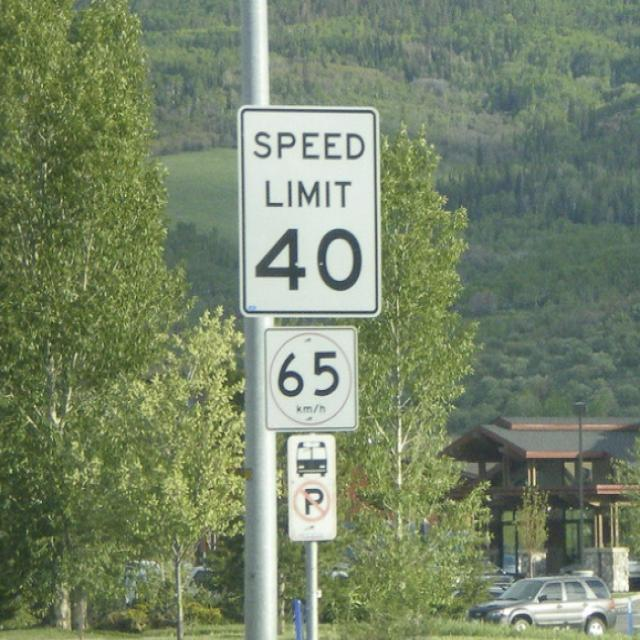speedLimit40: (245, 112, 373, 310)
